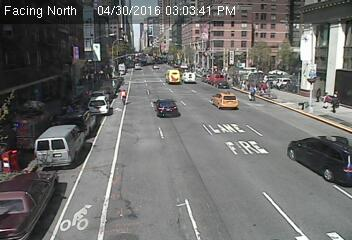neg: (327, 39, 343, 59), (96, 48, 112, 68), (210, 29, 225, 50), (73, 29, 88, 49), (36, 54, 51, 73), (56, 72, 69, 90), (197, 28, 210, 45), (253, 29, 265, 46), (145, 56, 156, 71), (126, 29, 137, 44), (278, 33, 289, 47), (167, 45, 177, 59), (229, 45, 238, 58), (303, 27, 312, 39), (144, 24, 153, 36)
pos: (328, 90, 345, 114), (117, 88, 130, 105), (248, 86, 259, 102), (314, 85, 324, 99), (259, 80, 268, 92), (269, 79, 275, 88)
